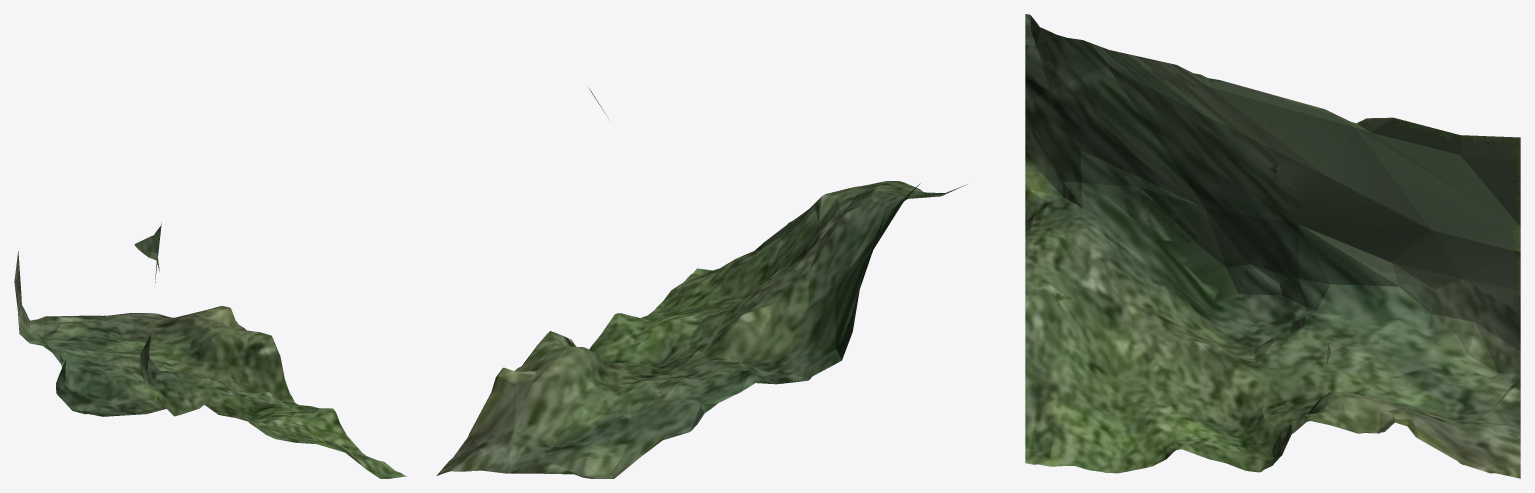
3 renders of one model, left to right at view 1: azimuth 30°, elevation 25°; view 2: azimuth 150°, elevation 25°; view 3: azimuth 270°, elevation 25°, orthographic. The views are drawn at different scales.
Bounding box in the file's own units: 3.91 × 4.28 × 5.9.
3 materials, 3 textured.
